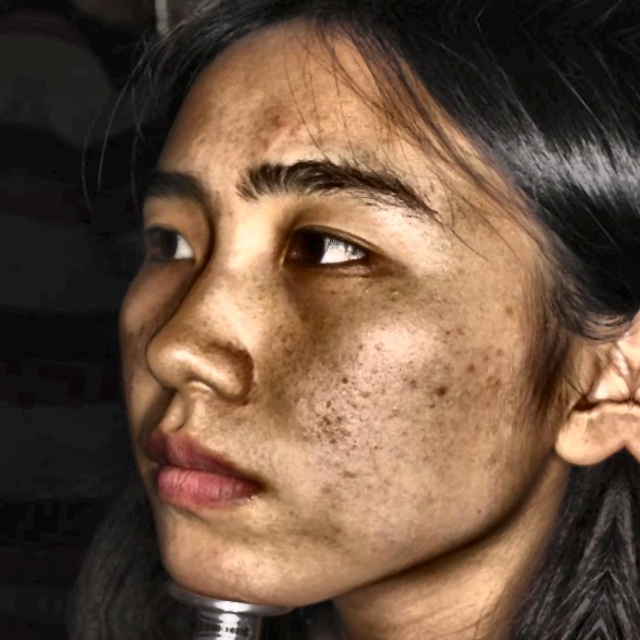comedone: (268, 111, 311, 144), (450, 354, 489, 387)
